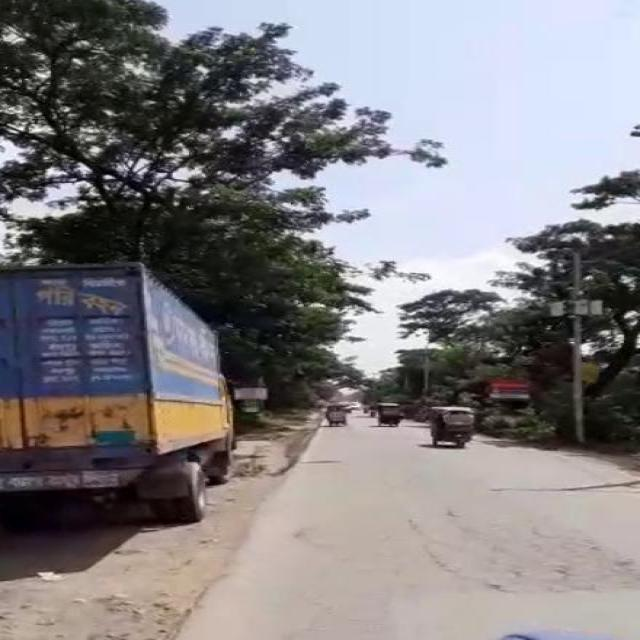18: (8, 262, 232, 516)
Car: (427, 403, 468, 445), (374, 399, 400, 425)
